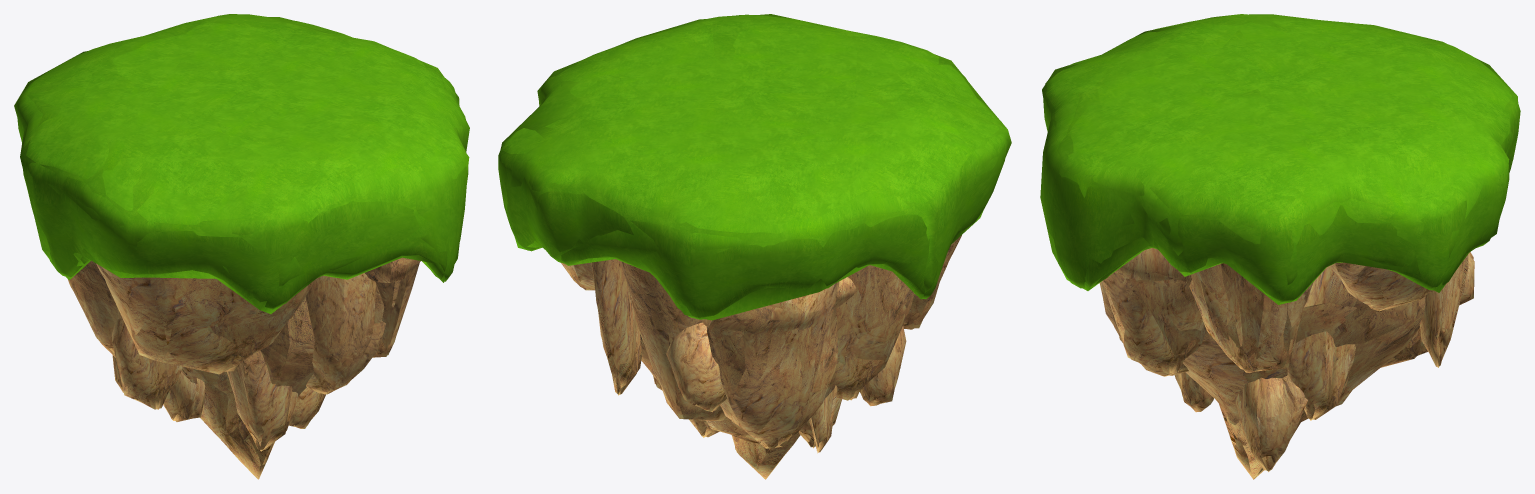
The model's file is Floating_Garden1LOD.fbx.
3 renders of one model, left to right at view 1: azimuth 30°, elevation 25°; view 2: azimuth 150°, elevation 25°; view 3: azimuth 270°, elevation 25°, orthographic. The views are drawn at different scales.
Visible parts, largest first — view 1: Floating_Land_1.LOD1, Floating_Land_1.LOD2; view 2: Floating_Land_1.LOD1, Floating_Land_1.LOD2; view 3: Floating_Land_1.LOD1, Floating_Land_1.LOD2.
Part boxes in pixels (x1=…): Floating_Land_1.LOD1: x1=17, y1=14, x2=468, y2=479; Floating_Land_1.LOD2: x1=14, y1=17, x2=469, y2=478; Floating_Land_1.LOD1: x1=498, y1=14, x2=1007, y2=479; Floating_Land_1.LOD2: x1=500, y1=14, x2=1011, y2=473; Floating_Land_1.LOD1: x1=1042, y1=14, x2=1520, y2=479; Floating_Land_1.LOD2: x1=1040, y1=14, x2=1518, y2=479.
Size of the model in its own units: 52.55 by 48.21 by 52.7.
